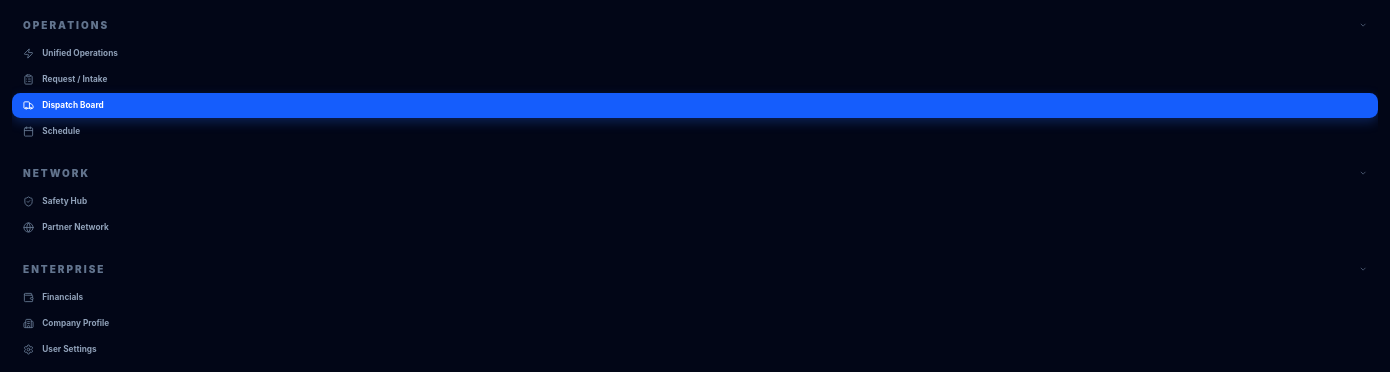
Test case: SidebarTree › renders ChevronDown for expanded and ChevronRight for collapsed categories
Click the button "Network": (57, 173) [12, 160, 1378, 186]
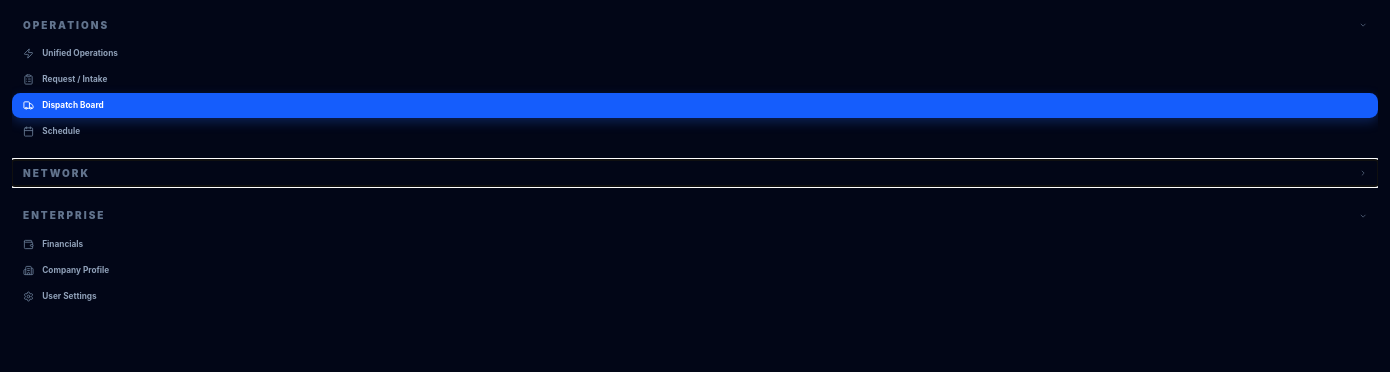
Check: the button "Safety Hub" is gone
Check: the button "Partner Network" is gone
